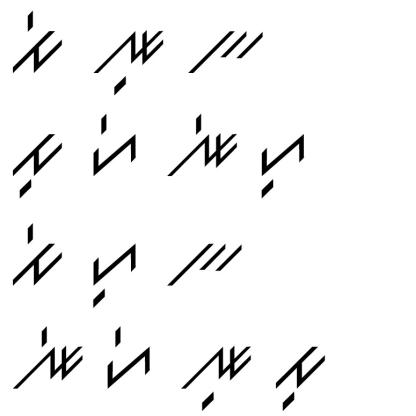he: (93, 327, 155, 394), (83, 113, 141, 180)
hu: (250, 130, 314, 199), (84, 237, 142, 313)
mbe: (8, 217, 64, 292), (7, 7, 65, 76)
mbu: (270, 338, 330, 412), (10, 126, 65, 200)
nde: (160, 110, 240, 183), (8, 320, 85, 392)
ndu: (91, 24, 166, 96), (179, 342, 254, 410)
